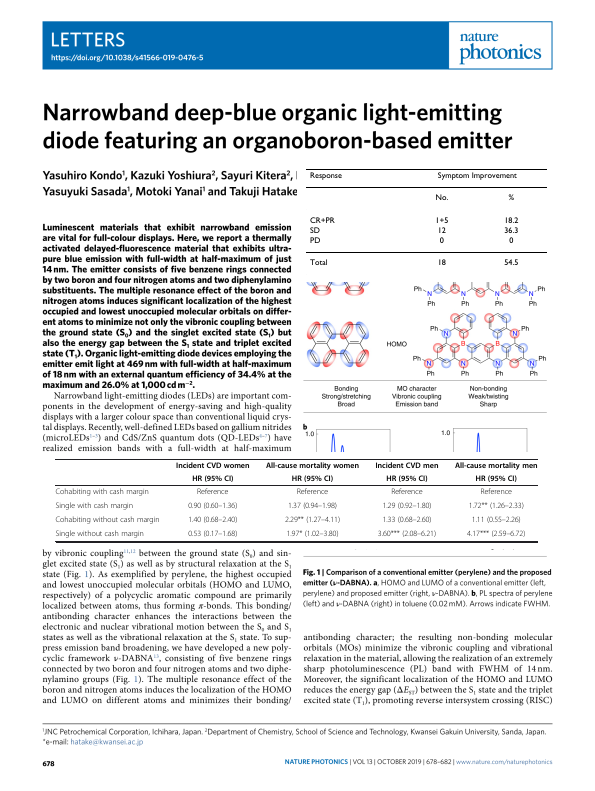borderless: (54, 457, 537, 541), (304, 167, 548, 276)
cell: (54, 515, 160, 525), (54, 487, 150, 497), (55, 529, 145, 539), (265, 461, 360, 470), (54, 501, 134, 511), (454, 461, 538, 470), (436, 172, 517, 181), (175, 461, 250, 470), (377, 529, 437, 539), (466, 529, 526, 539), (374, 461, 439, 470), (468, 501, 525, 511), (284, 515, 341, 525), (285, 529, 339, 539), (187, 501, 238, 511), (287, 501, 338, 511), (381, 501, 432, 511), (187, 515, 238, 525), (381, 515, 432, 525), (471, 515, 522, 525), (187, 529, 238, 539), (191, 474, 234, 484), (291, 474, 334, 484), (385, 474, 428, 484), (475, 474, 518, 484), (390, 487, 424, 497), (479, 487, 513, 497), (196, 487, 229, 497), (296, 487, 329, 497), (308, 172, 342, 181), (308, 216, 335, 226), (308, 259, 328, 268), (503, 216, 519, 226), (503, 226, 519, 236), (434, 216, 449, 226), (503, 259, 519, 268), (434, 194, 449, 203), (308, 226, 320, 236), (308, 237, 321, 246), (436, 226, 446, 236), (436, 259, 446, 268), (507, 194, 515, 203), (438, 237, 444, 246), (508, 237, 514, 246)
